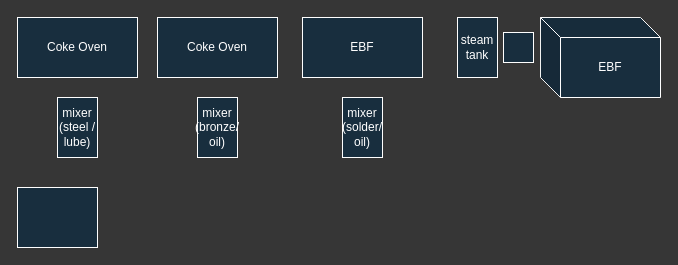
The diagram is 678 pixels wide and 265 high, and some of its shapes have lost their labels. Each missing label, with the box of its shape:
lv: (502, 32, 534, 62)
steel boiler: (16, 186, 98, 248)
